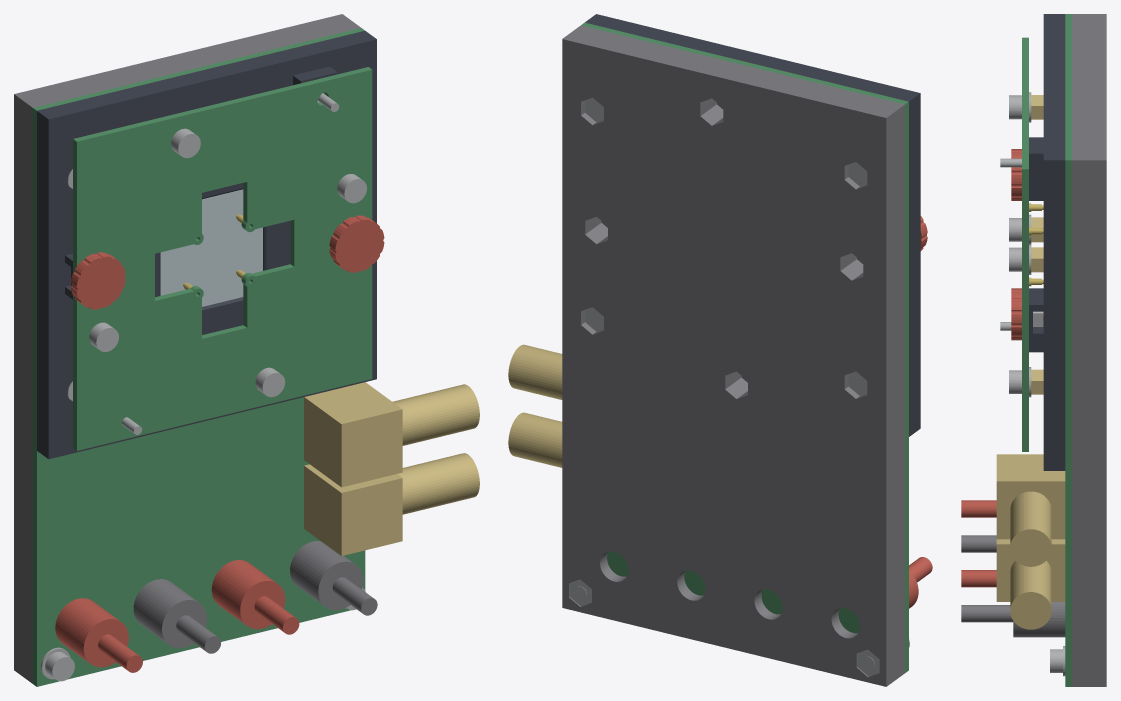
Rendered from T2P-L-pin.glb.
3 views of the same model, side by side, from view 1: azimuth 30°, elevation 25°; view 2: azimuth 150°, elevation 25°; view 3: azimuth 270°, elevation 25° (orthographic). The views are drawn at different scales.
Parts seen in each view (by area): view 1: p032, p001, p002, p000, p013, p012, p007, p008, p010, p009, p011, p050 (+1 smaller); view 2: p000, p002, p001, p012, p013, p008; view 3: p000, p002, p013, p001, p012, p032, p011, p008, p009, p010, p050, p049 (+9 smaller).
Part boxes in pixels (x1=…): p032: x1=73, y1=67, x2=372, y2=450; p001: x1=33, y1=28, x2=365, y2=686; p002: x1=37, y1=31, x2=376, y2=459; p000: x1=14, y1=14, x2=360, y2=683; p013: x1=304, y1=382, x2=479, y2=487; p012: x1=304, y1=453, x2=479, y2=555; p007: x1=160, y1=189, x2=262, y2=306; p008: x1=55, y1=598, x2=142, y2=672; p010: x1=211, y1=560, x2=299, y2=634; p009: x1=133, y1=579, x2=220, y2=653; p011: x1=290, y1=541, x2=377, y2=615; p050: x1=329, y1=215, x2=384, y2=272; p000: x1=562, y1=25, x2=904, y2=686; p002: x1=585, y1=14, x2=920, y2=436; p001: x1=581, y1=22, x2=908, y2=672; p012: x1=508, y1=412, x2=562, y2=467; p013: x1=508, y1=344, x2=562, y2=399; p008: x1=909, y1=557, x2=932, y2=608; p000: x1=1072, y1=14, x2=1106, y2=686; p002: x1=1029, y1=14, x2=1065, y2=470; p013: x1=996, y1=454, x2=1065, y2=566; p001: x1=1065, y1=14, x2=1071, y2=686; p012: x1=996, y1=539, x2=1065, y2=629; p032: x1=1022, y1=37, x2=1028, y2=451; p011: x1=961, y1=602, x2=1065, y2=637; p008: x1=961, y1=500, x2=996, y2=517; p009: x1=961, y1=535, x2=996, y2=552; p010: x1=961, y1=570, x2=996, y2=587; p050: x1=1011, y1=288, x2=1043, y2=340; p049: x1=1011, y1=149, x2=1021, y2=200.
Bounding box in the file's own units: 101 × 134 × 33.6.
